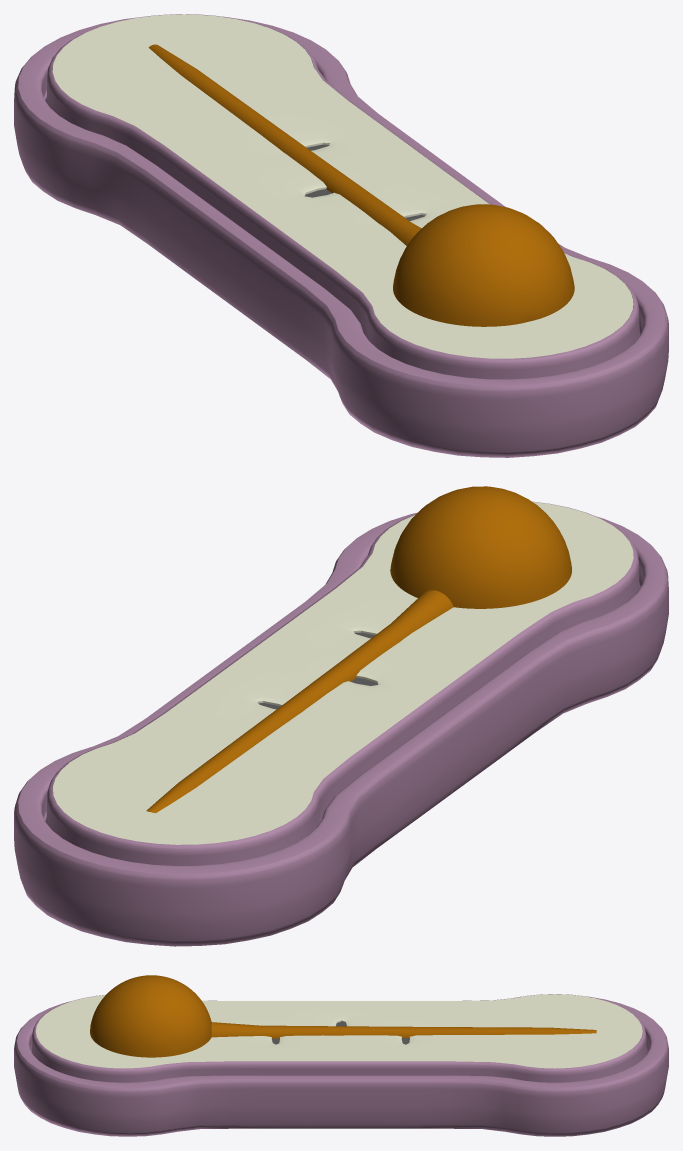
The model's file is 温度计(1).fbx.
3 views of the same model, one above another, from view 1: azimuth 30°, elevation 25°; view 2: azimuth 150°, elevation 25°; view 3: azimuth 270°, elevation 25° (orthographic). The views are drawn at different scales.
Parts seen in each view (by area): view 1: wenduji; view 2: wenduji; view 3: wenduji.
Boxes of the visible parts, x1,y1,x2,y2 form: wenduji: (14,14,668,457); wenduji: (14,486,668,946); wenduji: (14,975,668,1136).
Bounding box in the file's own units: 4.18 × 2.25 × 11.99.
